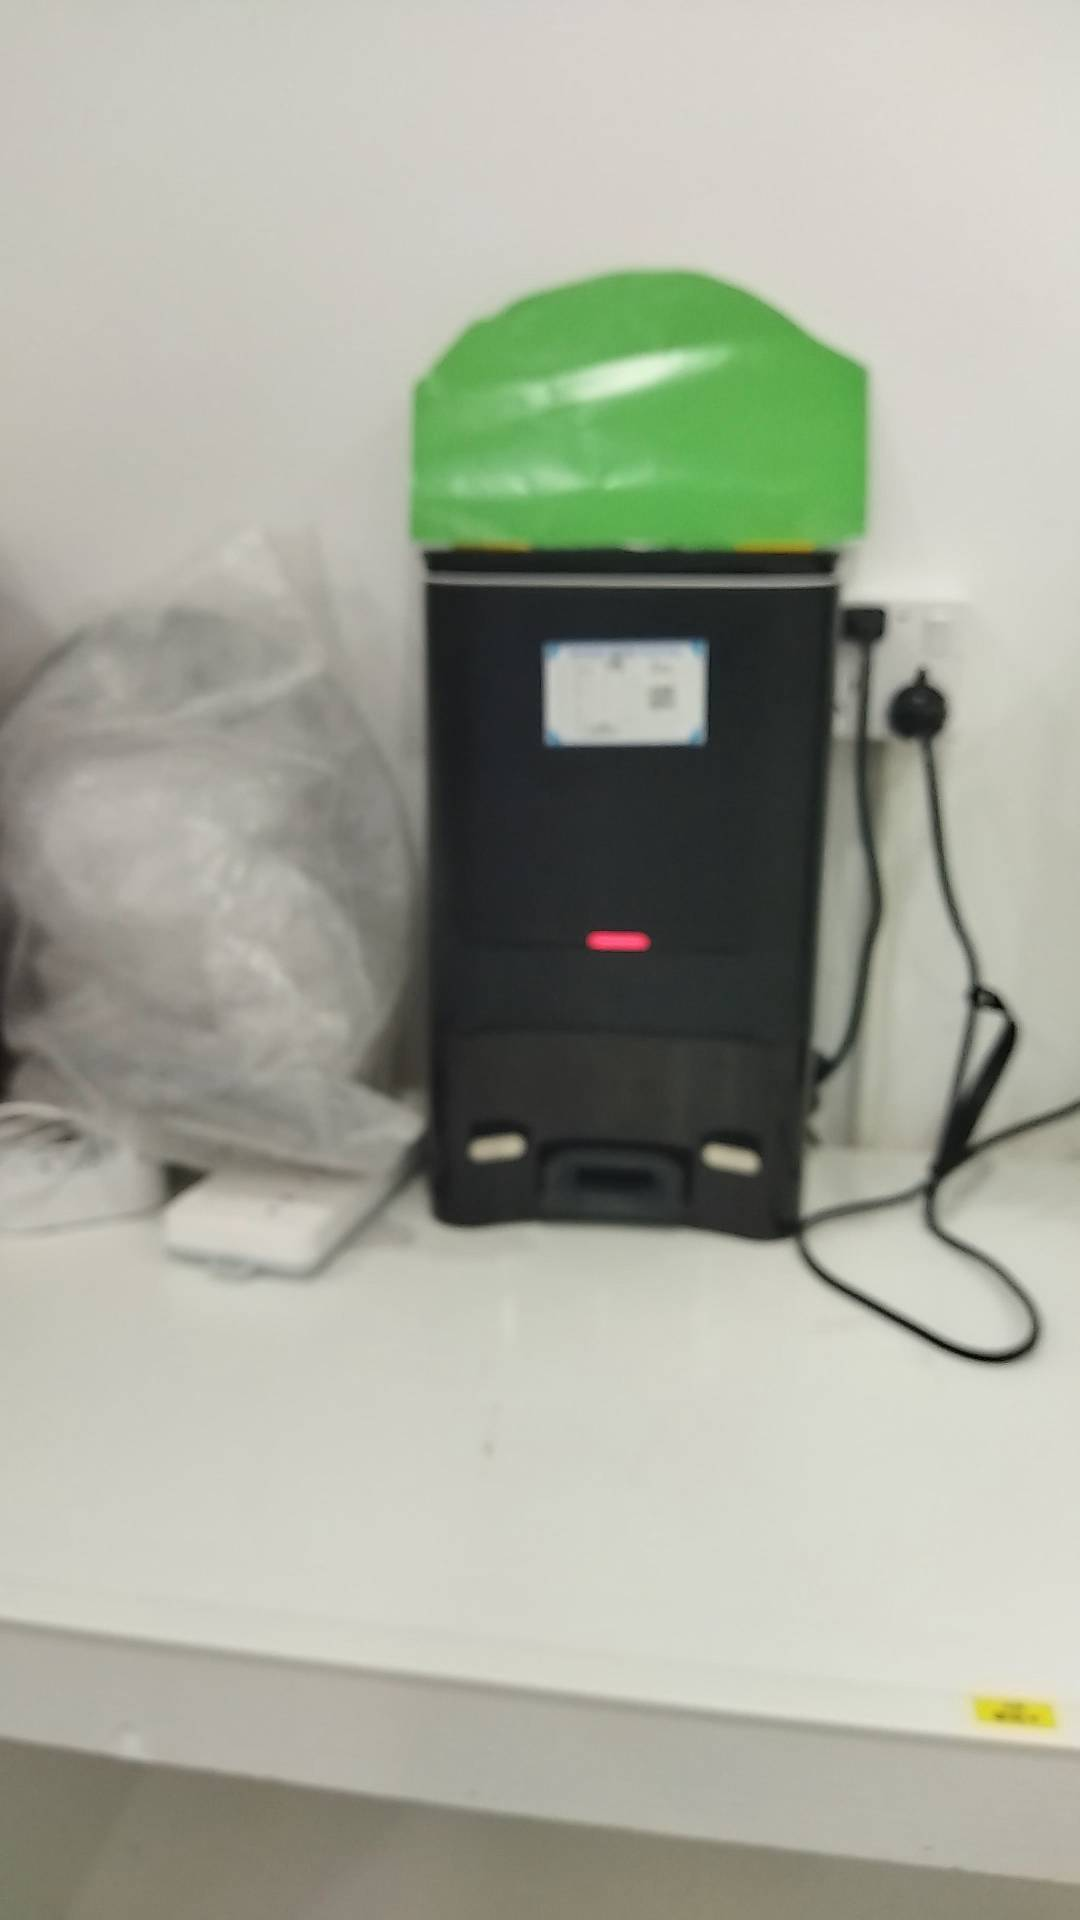dust collecting barrel: (418, 550, 844, 1237)
